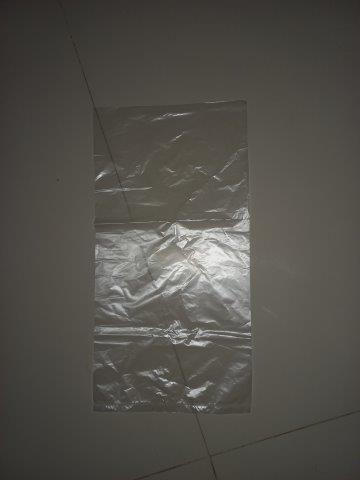plastik: (92, 105, 251, 412)
